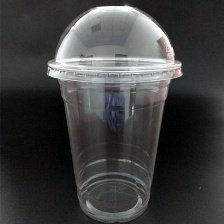glass: (44, 2, 188, 223)
